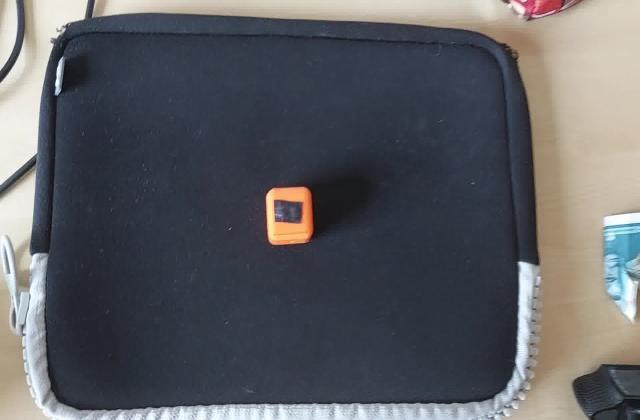black: (269, 197, 306, 227)
sticker: (263, 186, 316, 248)
